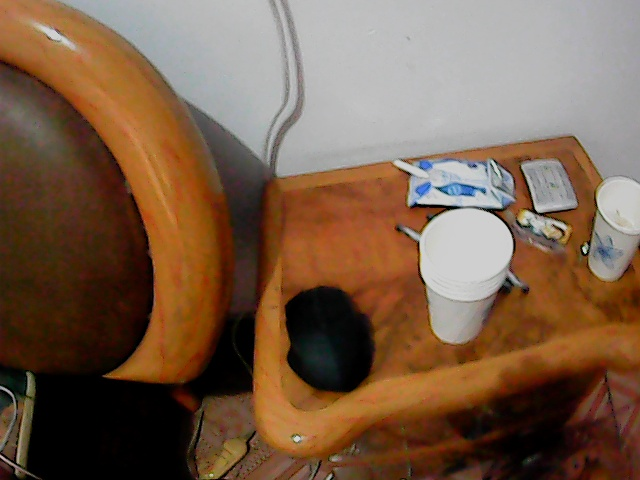cup: (418, 207, 513, 344)
mouse: (284, 280, 371, 395)
